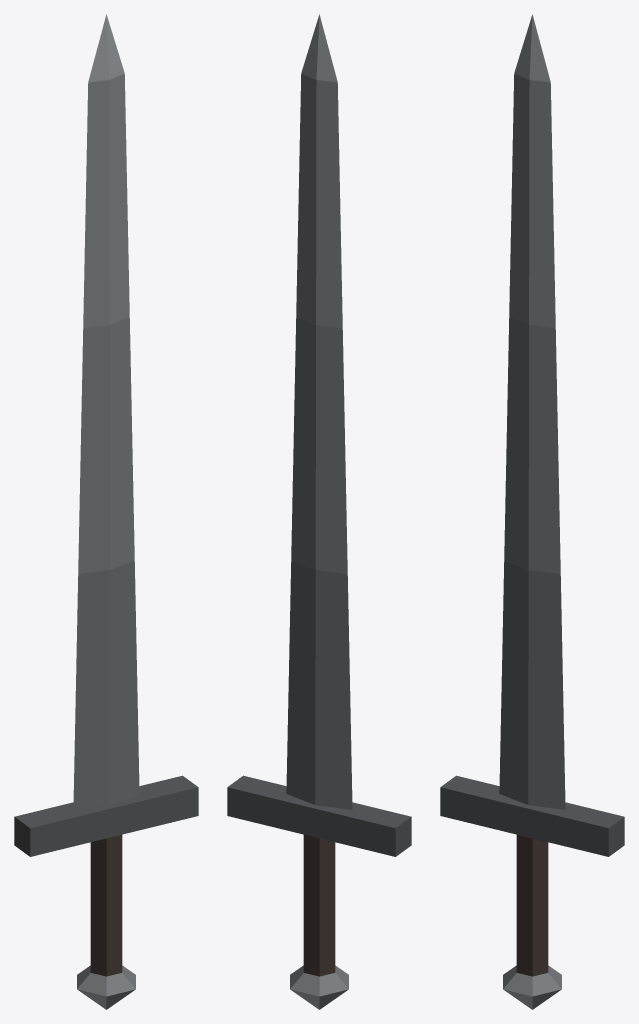
File: sword_arming_iron_s1010.glb
The picture shows the model from 3 angles, left to right: view 1: azimuth 30°, elevation 25°; view 2: azimuth 150°, elevation 25°; view 3: azimuth 330°, elevation 25°; orthographic projection.
Parts seen in each view (by area): view 1: sword_arming_iron_s1010; view 2: sword_arming_iron_s1010; view 3: sword_arming_iron_s1010.
Part boxes in pixels (box(x1,y1,x2,y2)): sword_arming_iron_s1010: box(14, 14, 198, 1009); sword_arming_iron_s1010: box(227, 14, 411, 1009); sword_arming_iron_s1010: box(440, 14, 624, 1009).
Size of the model in its own units: 0.1594 by 0.9011 by 0.0485.
Materials: 1 (1 with a texture image).
